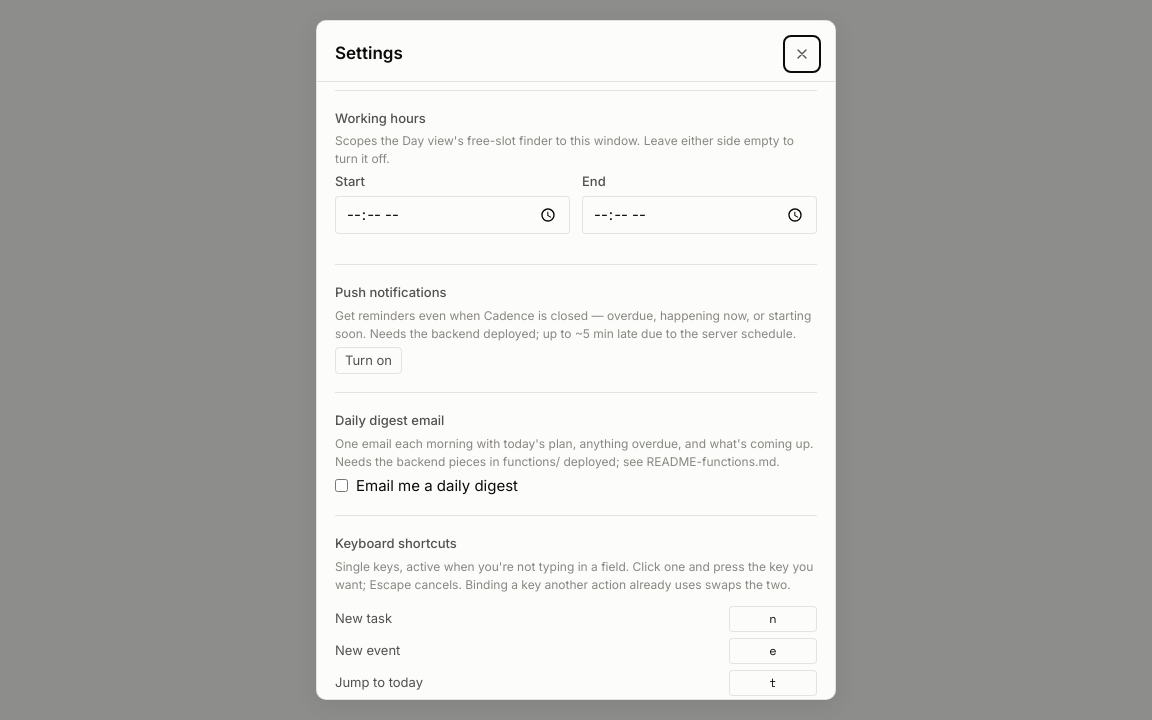
it: SettingsModal push flow — button, toast, and backend agree › a stale check resolving true after disable does not revert Turn on
(page scrolled)
What coordinates should you click on to do the following:
click the button "Turn on"
I would click on:
 (368, 360)
Its box is [335,346,402,374].
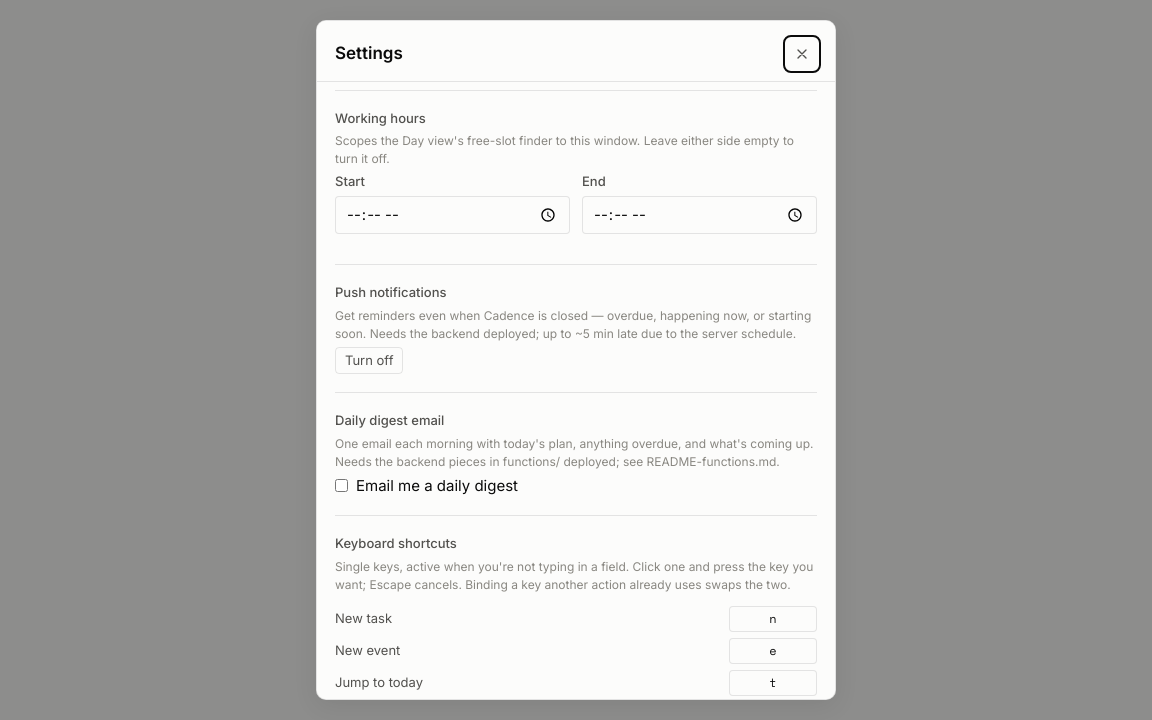
Result: the button "Turn off" is shown
What coordinates should you click on to do the following:
click the button "Turn off"
I would click on:
 (369, 360)
Its box is [335,346,404,374].
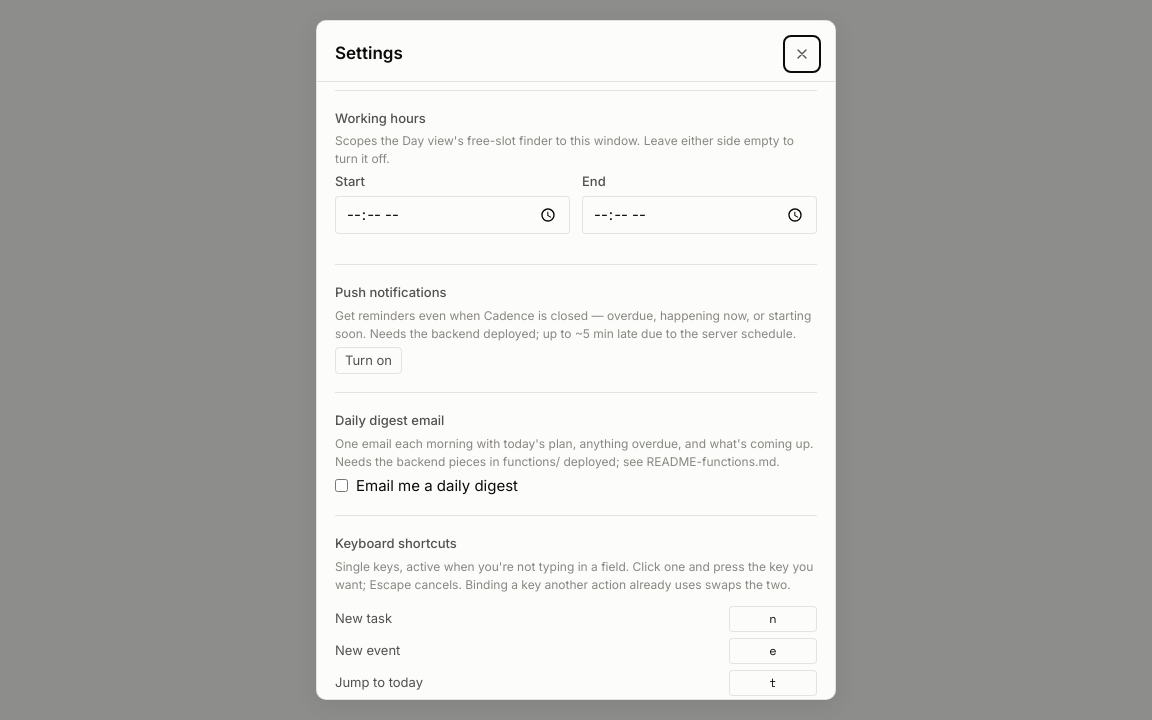
Result: the button "Turn on" is shown at [335,346,402,374]
